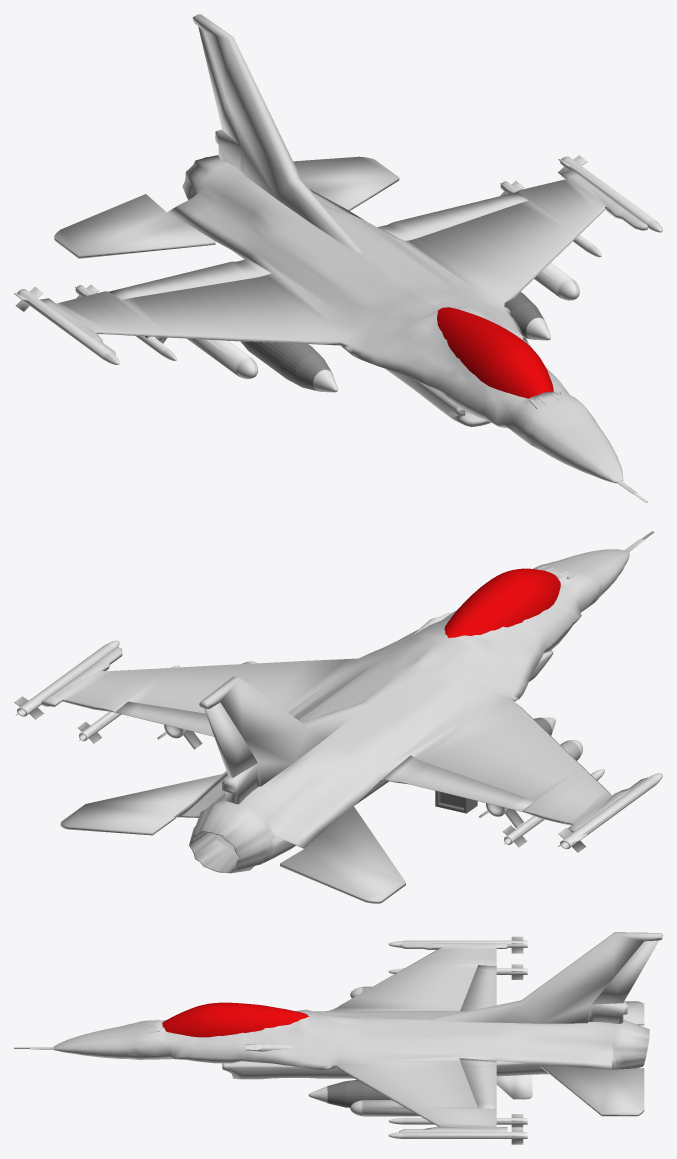
The model's file is final uçak havada.fbx.
The picture shows the model from 3 angles, top to bottom: view 1: azimuth 30°, elevation 25°; view 2: azimuth 150°, elevation 25°; view 3: azimuth 270°, elevation 25°; orthographic projection. The views are drawn at different scales.
Visible parts, largest first — view 1: gövde, arka kanat, kokpit, kanat2, Cylinder, Uçak Mermisi.001, Cylinder.004, kanat ek, Cylinder.003, Uçak Mermisi.005; view 2: gövde, arka kanat, kokpit, kanat2, Cylinder, kanat ek, Cylinder.004, Cylinder.005, Uçak Mermisi.002, Cylinder.002; view 3: gövde, arka kanat, kokpit, kanat2, Cylinder, kanat ek, Uçak Mermisi.005, Cylinder.003, göt kanat, Cylinder.002, Cylinder.005.
Boxes of the visible parts, x1,y1,x2,y2 form: gövde: [40, 14, 648, 502]; arka kanat: [54, 156, 399, 258]; kokpit: [437, 307, 553, 398]; kanat2: [109, 192, 527, 299]; Cylinder: [14, 155, 662, 364]; Uçak Mermisi.001: [240, 341, 331, 390]; Cylinder.004: [155, 337, 257, 378]; kanat ek: [198, 27, 241, 146]; Cylinder.003: [534, 263, 579, 300]; Uçak Mermisi.005: [505, 292, 544, 339]; gövde: [41, 531, 654, 873]; arka kanat: [60, 774, 405, 903]; kokpit: [444, 568, 560, 637]; kanat2: [113, 701, 534, 811]; Cylinder: [14, 640, 662, 852]; kanat ek: [204, 702, 257, 777]; Cylinder.004: [479, 740, 582, 827]; Cylinder.005: [502, 769, 604, 847]; Uçak Mermisi.002: [435, 791, 477, 813]; Cylinder.002: [78, 665, 179, 743]; gövde: [14, 932, 662, 1132]; arka kanat: [540, 1001, 644, 1116]; kokpit: [162, 1002, 309, 1037]; kanat2: [459, 965, 496, 1108]; Cylinder: [388, 936, 527, 1144]; kanat ek: [591, 940, 659, 1004]; Uçak Mermisi.005: [327, 1080, 390, 1107]; Cylinder.003: [350, 1100, 420, 1116]; göt kanat: [496, 1074, 532, 1099]; Cylinder.002: [388, 1114, 527, 1127]; Cylinder.005: [388, 964, 527, 979].
Size of the model in its own units: 820 by 292 by 1129.
